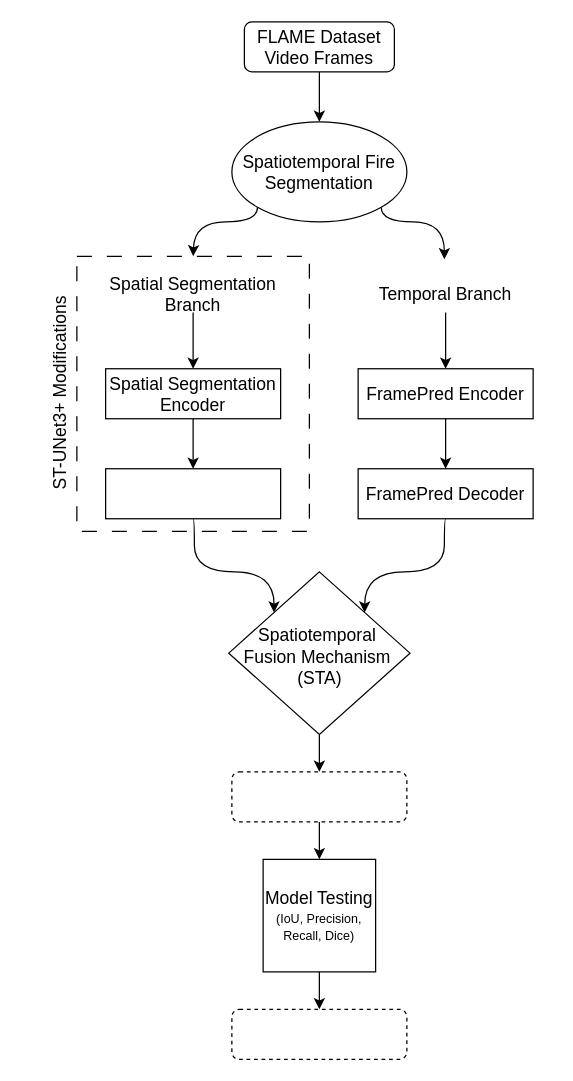
This 573x1081 diagram has some shape labels left out. The centre of each missing label's shape, as x and y in pixels:
"Output Evaluation Metrics" goes at point 319,1033.
"Output Fire Segmentation Masks" goes at point 319,796.
"Spatial Segmentation Decoder" goes at point 192,493.
